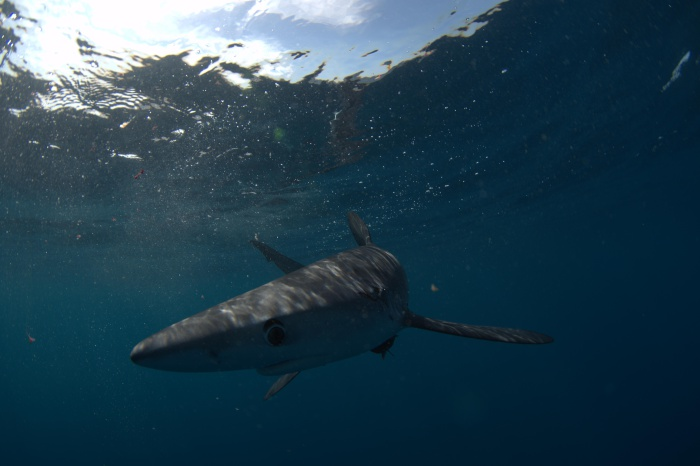Azul: (96, 202, 559, 407)
